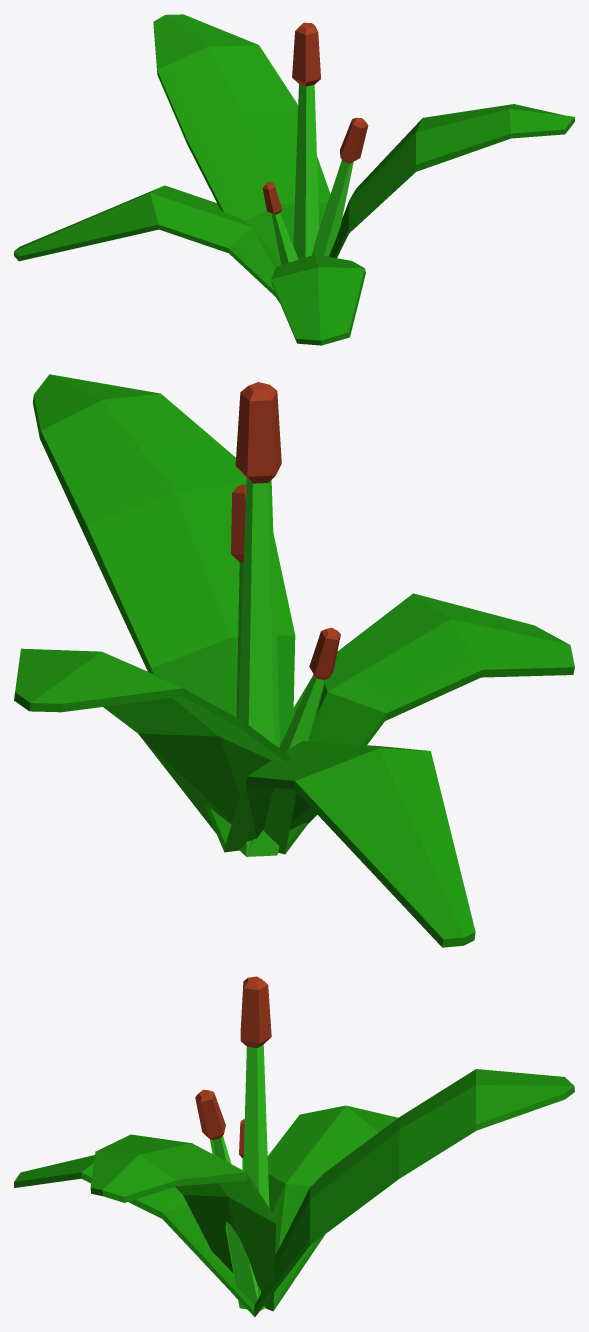
Rendered from Grass4.fbx.
3 views of the same model, one above another, from view 1: azimuth 30°, elevation 25°; view 2: azimuth 150°, elevation 25°; view 3: azimuth 270°, elevation 25° (orthographic). The views are drawn at different scales.
Visible parts, largest first — view 1: Grass2; view 2: Grass2; view 3: Grass2.
Boxes of the visible parts, x1,y1,x2,y2 form: Grass2: [14, 14, 574, 345]; Grass2: [14, 374, 574, 947]; Grass2: [14, 976, 574, 1316].
Size of the model in its own units: 87.09 by 58.45 by 91.6.
Materials: 1 (1 with a texture image).
